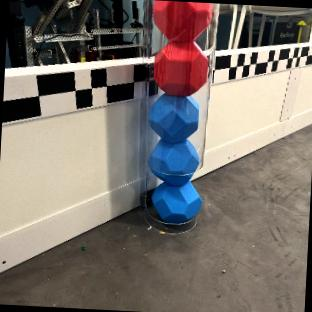Loader: (137, 0, 217, 233)
V5_BLUE: (148, 94, 198, 140), (147, 139, 198, 181), (151, 181, 200, 222)
V5_RED: (153, 39, 207, 95), (153, 0, 210, 41)
